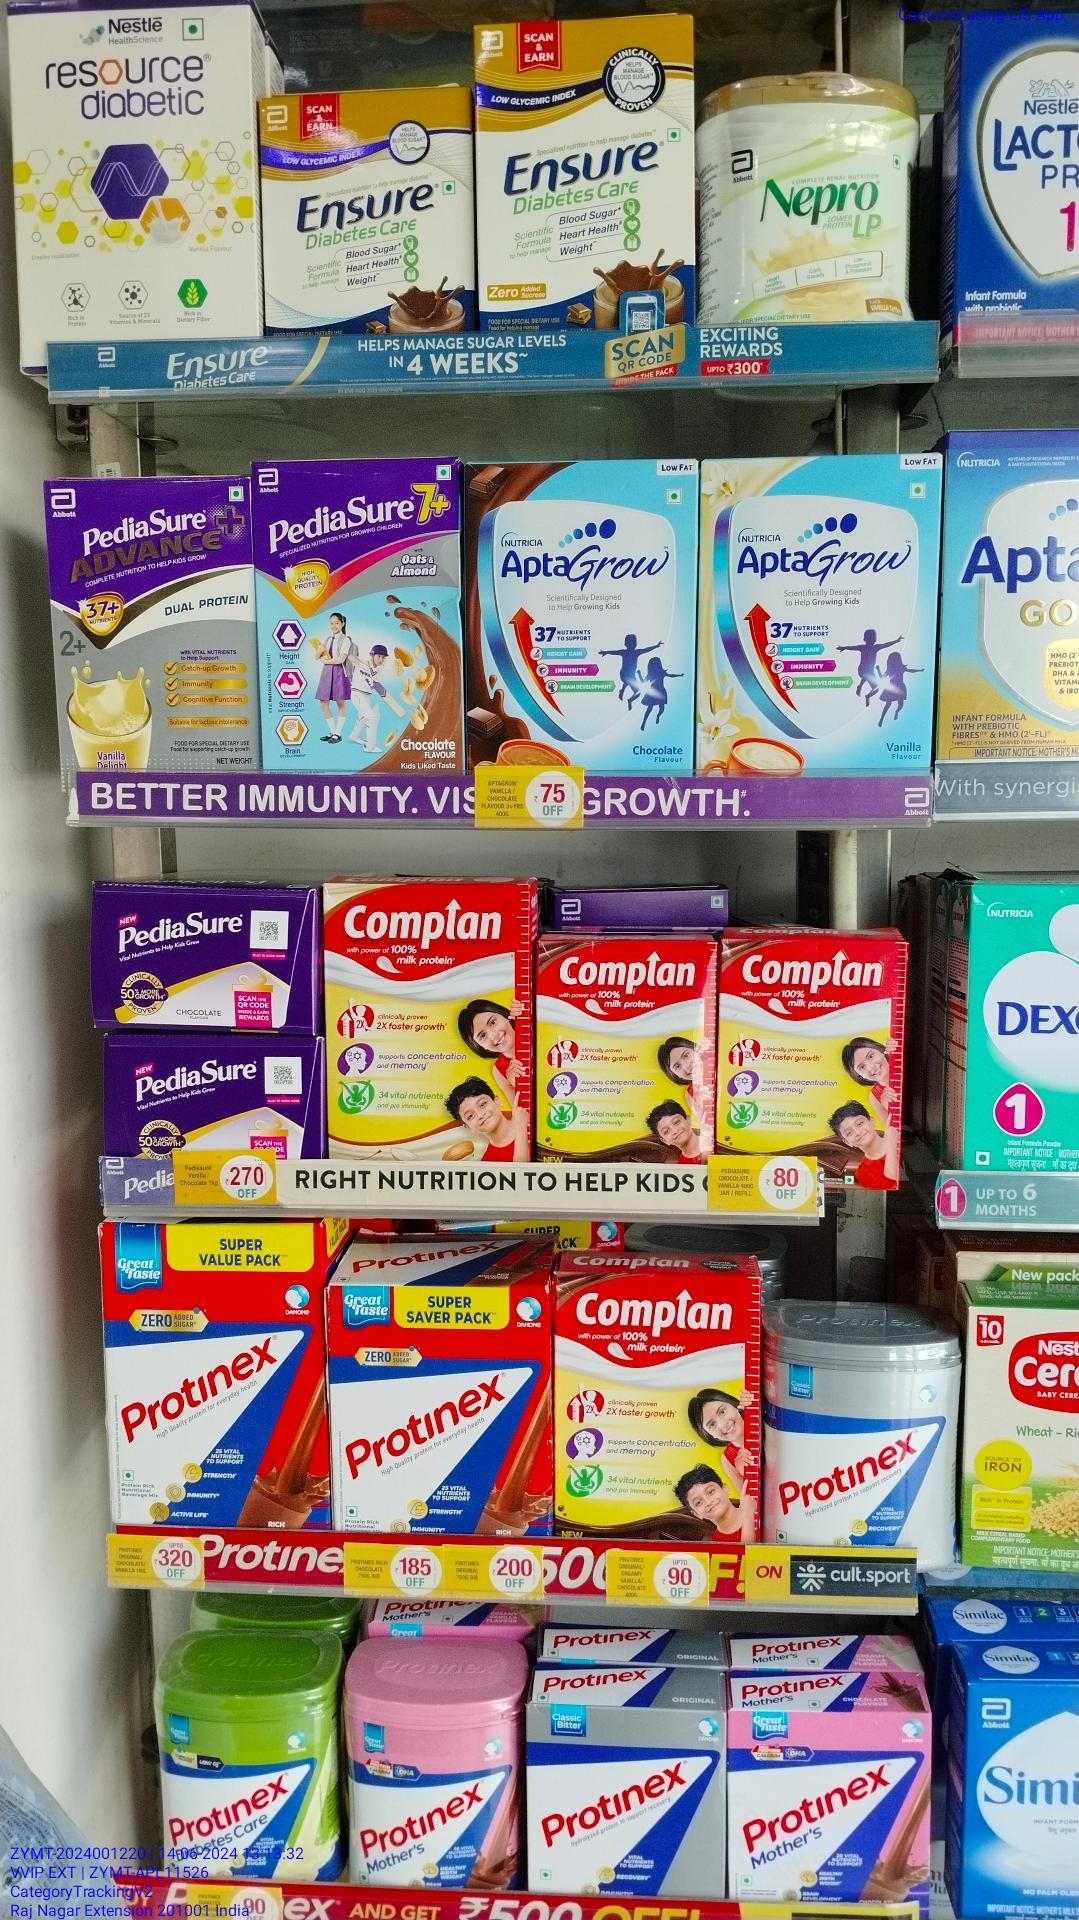COMPLAN_CHOCOLATE_200_GMS_PACK: (551, 1279, 761, 1548), (718, 932, 908, 1158), (537, 938, 712, 1164)
COMPLAN_KESAR_BADAM_500_GMS_PACK: (322, 881, 529, 1160)
PROTINEX_ORIGINAL_400_G_JAR: (765, 1324, 954, 1543)
